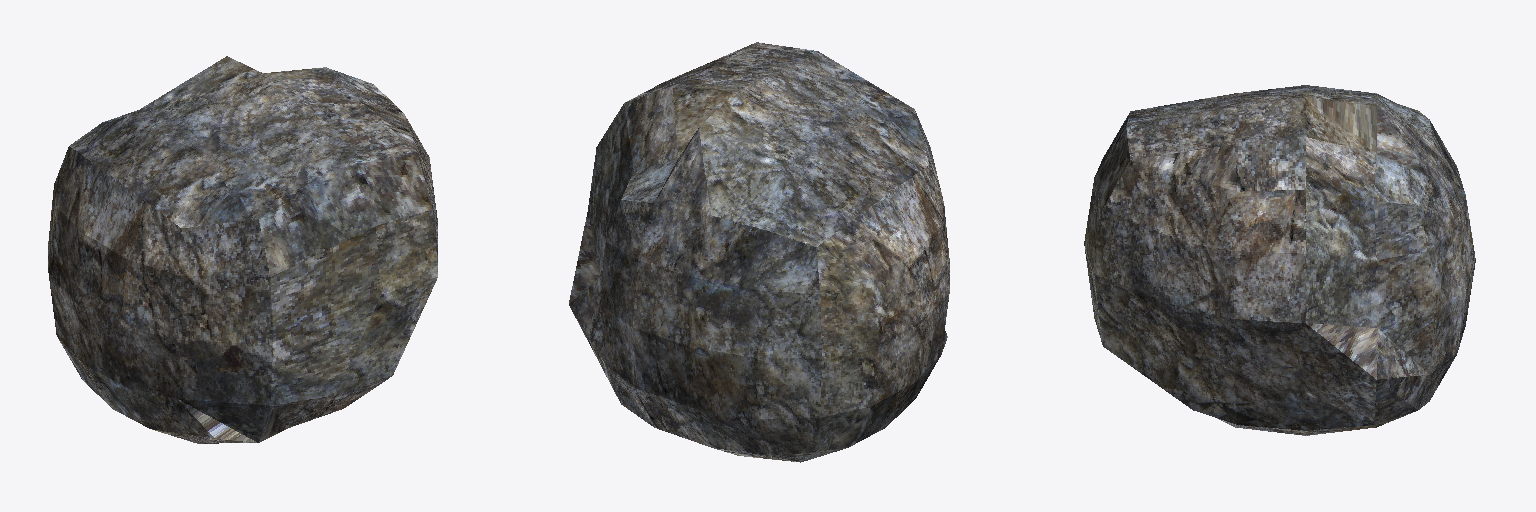
3 views of the same model, side by side, from view 1: azimuth 30°, elevation 25°; view 2: azimuth 150°, elevation 25°; view 3: azimuth 270°, elevation 25° (orthographic).
Parts seen in each view (by area): view 1: asteroid1_Cube; view 2: asteroid1_Cube; view 3: asteroid1_Cube.
Boxes of the visible parts, x1=… form: asteroid1_Cube: x1=48, y1=56, x2=437, y2=443; asteroid1_Cube: x1=569, y1=42, x2=949, y2=462; asteroid1_Cube: x1=1084, y1=85, x2=1475, y2=435.
Bounding box in the file's own units: 1.72 × 1.65 × 1.74.
1 materials, 1 textured.